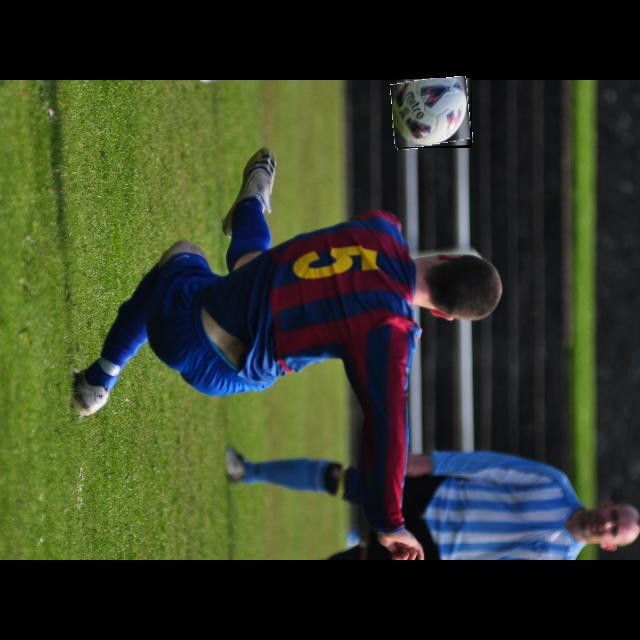Football: (392, 78, 472, 148)
